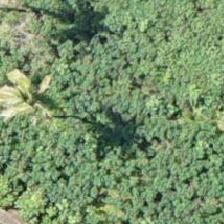coconut_tree: (0, 36, 71, 126)
